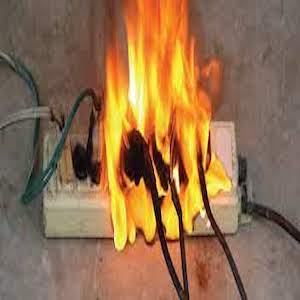heat: (101, 13, 230, 250)
